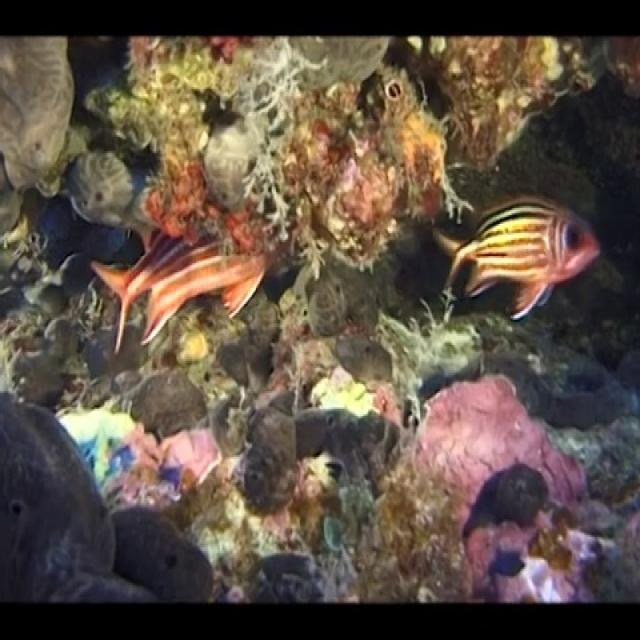Asker Baligi: (431, 194, 601, 324)
